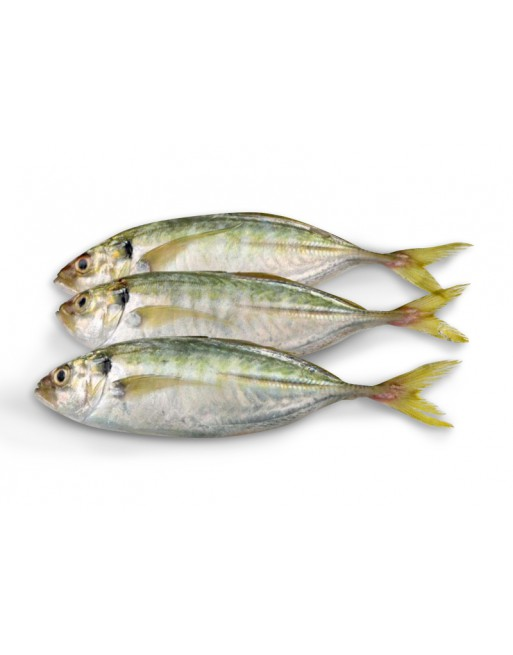Ikan Selar: (35, 337, 463, 439), (53, 269, 468, 354), (54, 211, 458, 291)
